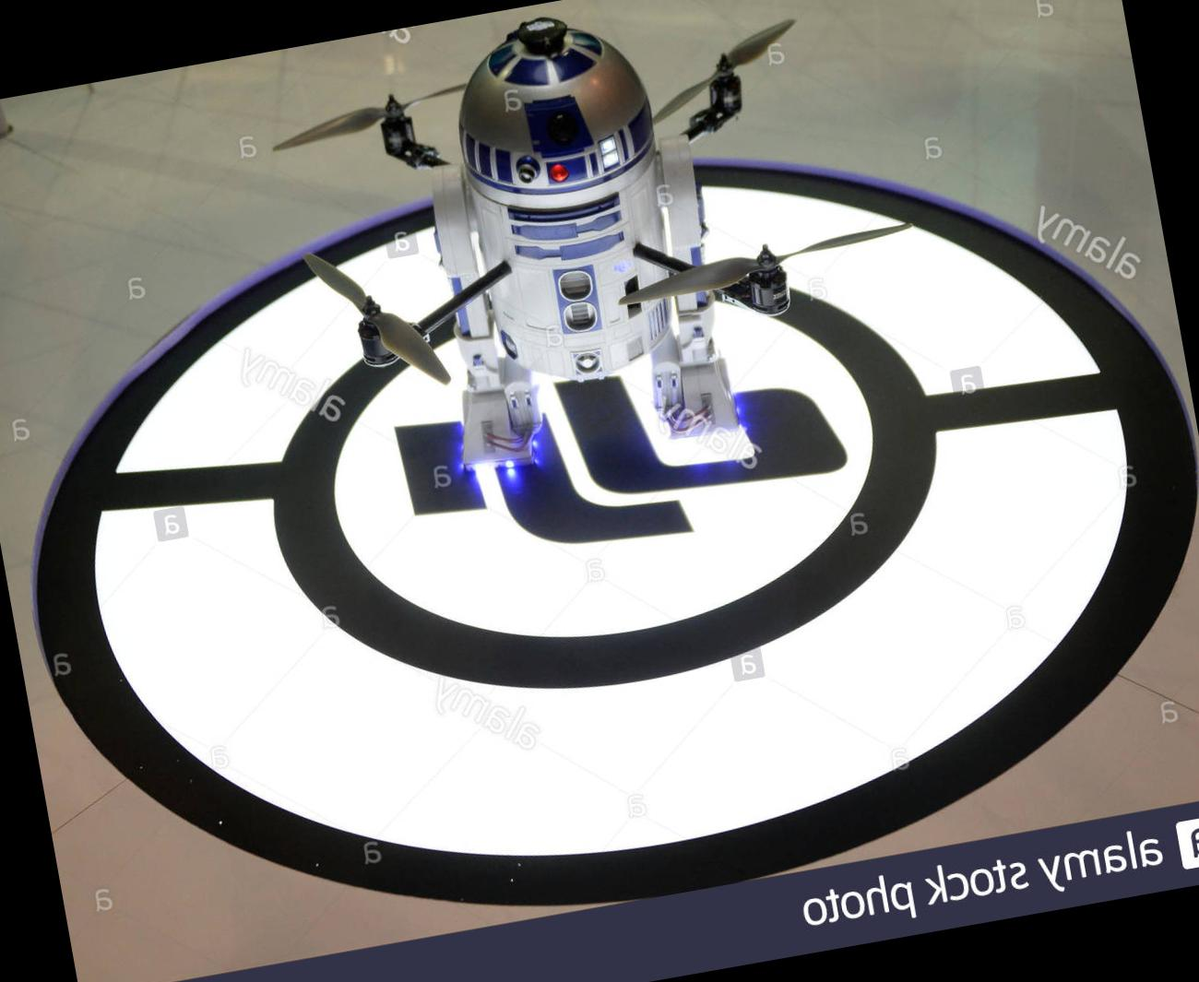drone: (251, 0, 902, 491)
